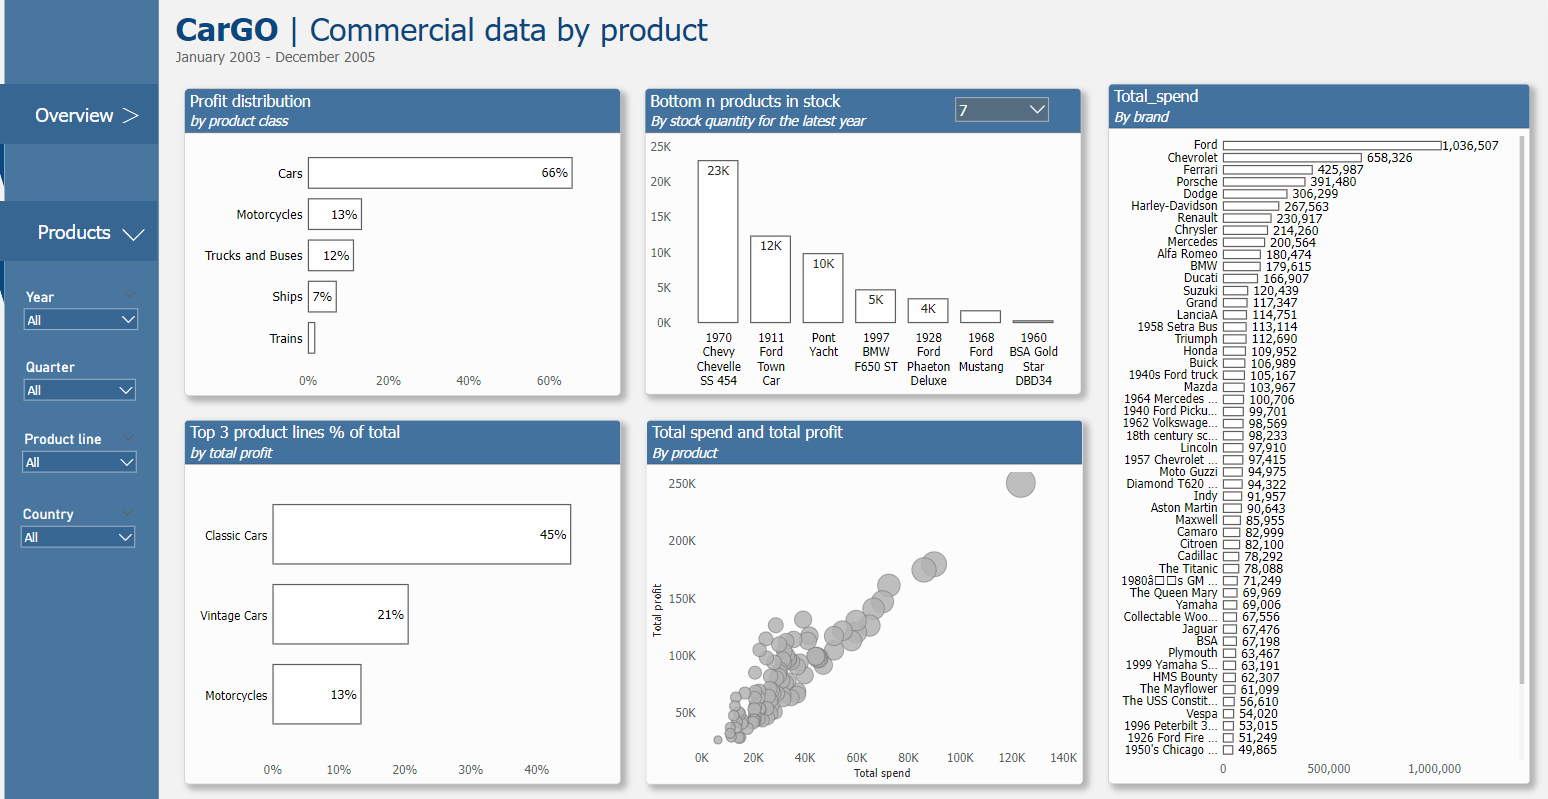

What the dashboard file says about the page in this screenshot:
{"tool":"powerbi","page":{"name":"Products","canvas":[2600,1350],"ordinal":1},"visuals":[{"type":"clusteredColumnChart","title":"Bottom n products in stock","fields":{"Category":["Data set.productName"],"Y":["MeasuresTbl.Bottom_n_products_in_stock"]},"box":[1095.8,147.5,727.5,510],"z":0},{"type":"clusteredBarChart","title":"Top 3 product lines % of  total","fields":{"Category":["Data set.productLine"],"Y":["MeasuresTbl.% of total profit"]},"box":[327.5,700,727.5,607.5],"z":1000},{"type":"slicer","title":"Bottom N","fields":{"Values":["BottomN table.Bottom X"]},"box":[1603.3,152.5,175,55],"z":2000},{"type":"shape","box":[27.5,0,257.5,1350],"z":3000},{"type":"shape","box":[5,240,22.5,75],"z":4000},{"type":"shape","box":[5,140,278.3,100],"z":5000},{"type":"shape","box":[6.1,435.5,22.9,74.3],"z":6000},{"type":"slicer","fields":{"Values":["Dates_table.Quarter"]},"box":[49.8,591.9,206,96],"z":7000},{"type":"slicer","fields":{"Values":["Dates_table.Year"]},"box":[49.8,475.9,210,94],"z":8000},{"type":"slicer","fields":{"Values":["Data set.ProductLineShort"]},"box":[47.8,713.9,210,94],"z":9000},{"type":"slicer","fields":{"Values":["Data set.country"]},"box":[45.8,837.9,210,96],"z":10000},{"type":"shape","box":[223.3,180,30,25],"z":11000},{"type":"clusteredBarChart","title":"Profit distribution","fields":{"Y":["Sum(Data set.total_profit)"],"Category":["Data set.Product class"]},"box":[327.5,147.5,727.5,512.5],"z":12000},{"type":"scatterChart","title":"Total spend and total profit","fields":{"X":["Sum(Data set.total_profit)"],"Size":["Sum(Data set.total_profit)"],"Category":["Data set.productName"],"Y":["Sum(Data set.total_spend)"]},"box":[1098.3,700,727,607.5],"z":13000},{"type":"textbox","box":[307.5,10,935,110],"z":14000},{"type":"shape","box":[5.7,335.5,277.5,100],"z":15000},{"type":"shape","box":[219.3,379.5,45,22.5],"z":17000},{"type":"clusteredBarChart","title":"Total_spend","fields":{"Category":["Data set.Brand"],"Y":["Sum(Data set.total_spend)"]},"box":[1867.5,140,702.5,1167.5],"z":19000}]}

Visuals, with their boxes on the page's 2600x1350 design canvas (x1, y1, x2, y2). These are canvas units, not pixel positions in the 1548x799 screenshot, which may show the page scaled, cropped or inside an application window:
"Bottom n products in stock" clusteredColumnChart: box(1096, 148, 1823, 658)
"Top 3 product lines % of  total" clusteredBarChart: box(328, 700, 1055, 1308)
"Bottom N" slicer: box(1603, 152, 1778, 208)
shape: box(28, 0, 285, 1350)
shape: box(5, 240, 28, 315)
shape: box(5, 140, 283, 240)
shape: box(6, 436, 29, 510)
slicer - Dates_table.Quarter: box(50, 592, 256, 688)
slicer - Dates_table.Year: box(50, 476, 260, 570)
slicer - Data set.ProductLineShort: box(48, 714, 258, 808)
slicer - Data set.country: box(46, 838, 256, 934)
shape: box(223, 180, 253, 205)
"Profit distribution" clusteredBarChart: box(328, 148, 1055, 660)
"Total spend and total profit" scatterChart: box(1098, 700, 1825, 1308)
textbox: box(308, 10, 1242, 120)
shape: box(6, 336, 283, 436)
shape: box(219, 380, 264, 402)
"Total_spend" clusteredBarChart: box(1868, 140, 2570, 1308)
